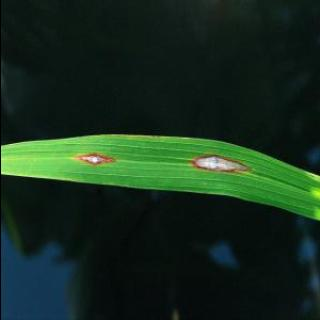Blast: (189, 147, 252, 179), (74, 144, 116, 178)
